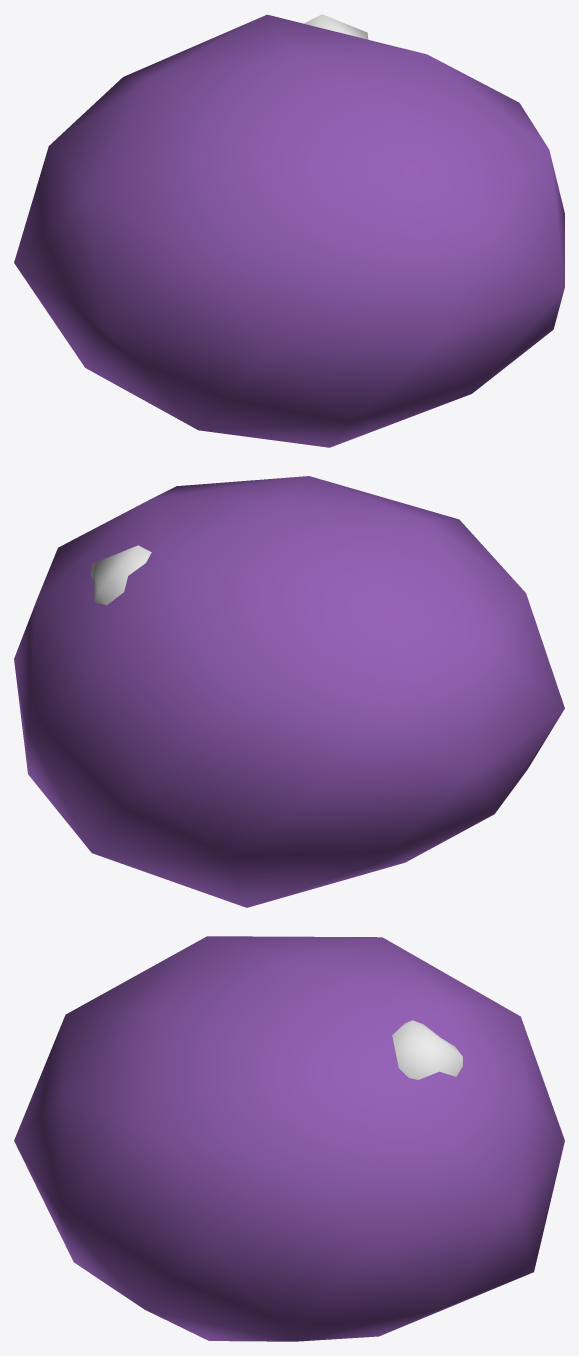
The model's file is journeyman_bait.glb.
3 views of the same model, one above another, from view 1: azimuth 30°, elevation 25°; view 2: azimuth 150°, elevation 25°; view 3: azimuth 270°, elevation 25° (orthographic).
Visible parts, largest first — view 1: journeyman_bait_v0; view 2: journeyman_bait_v0; view 3: journeyman_bait_v0.
Part boxes in pixels (<box>): journeyman_bait_v0: <box>14,14,564,447</box>; journeyman_bait_v0: <box>14,476,564,907</box>; journeyman_bait_v0: <box>14,936,564,1341</box>.
Bounding box in the file's own units: 0.2275 × 0.1697 × 0.2337.
